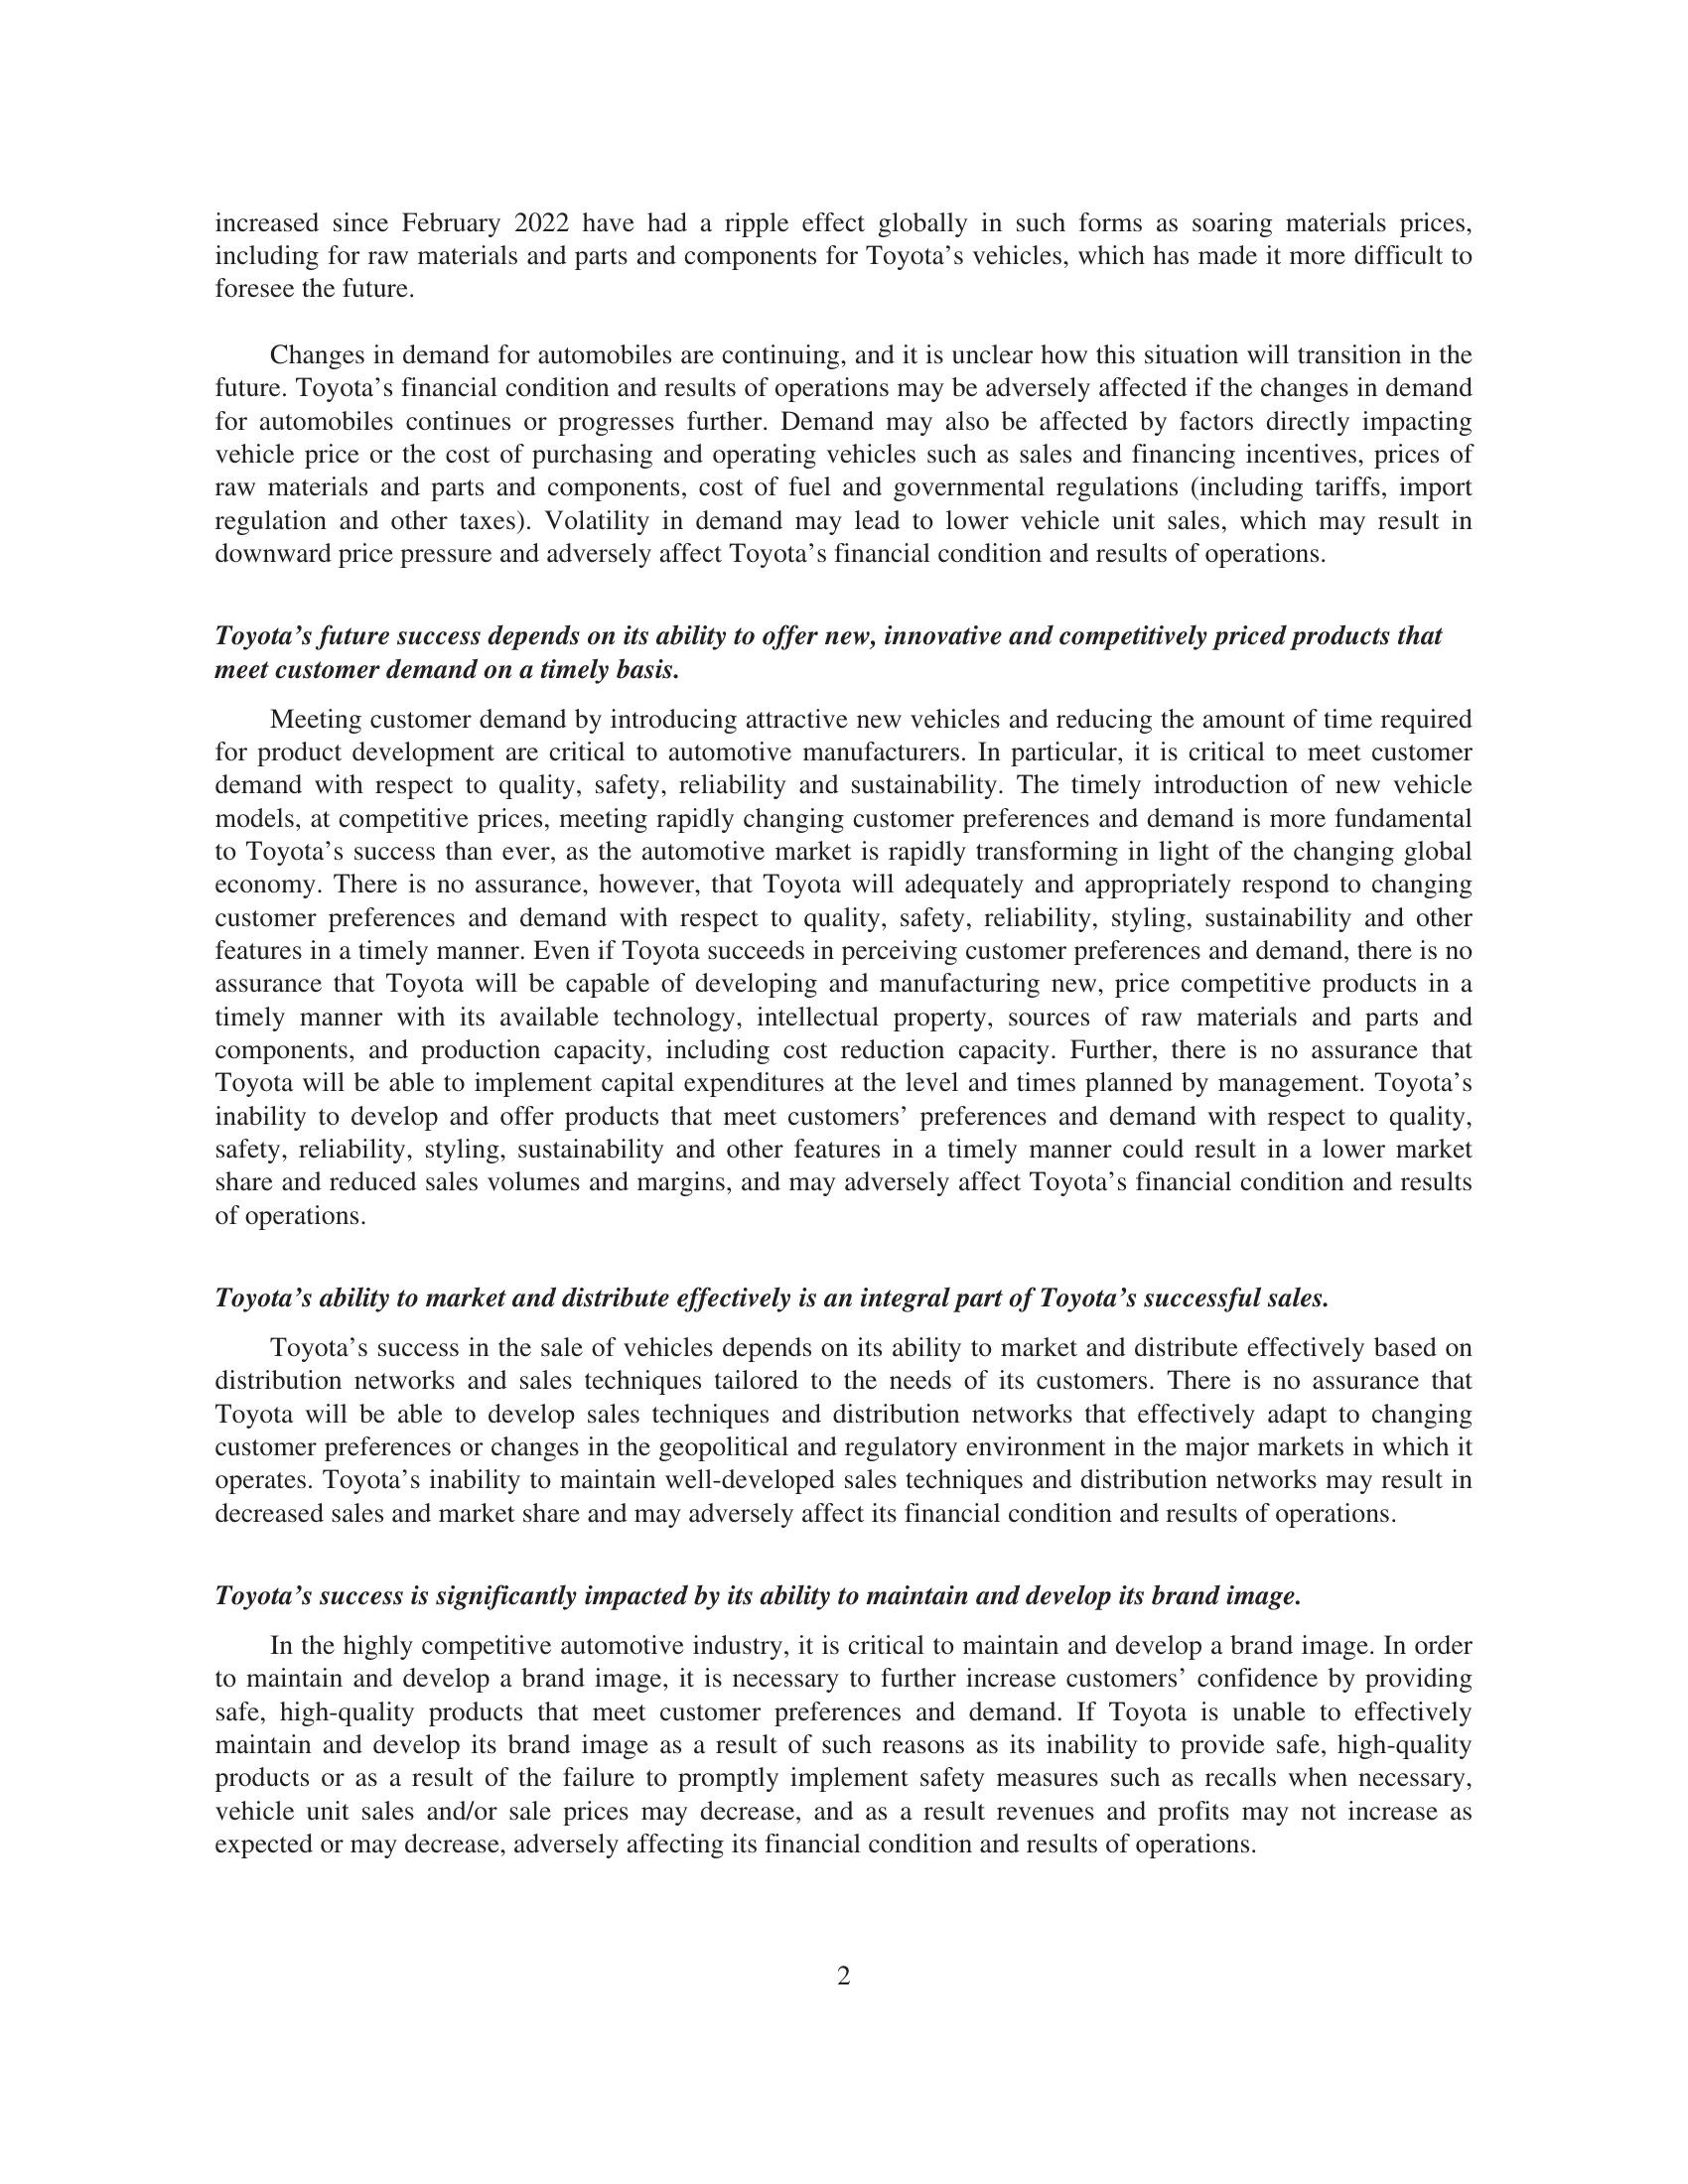Footer: (5, 1913, 1688, 2184)
Header: (0, 0, 1688, 167)
